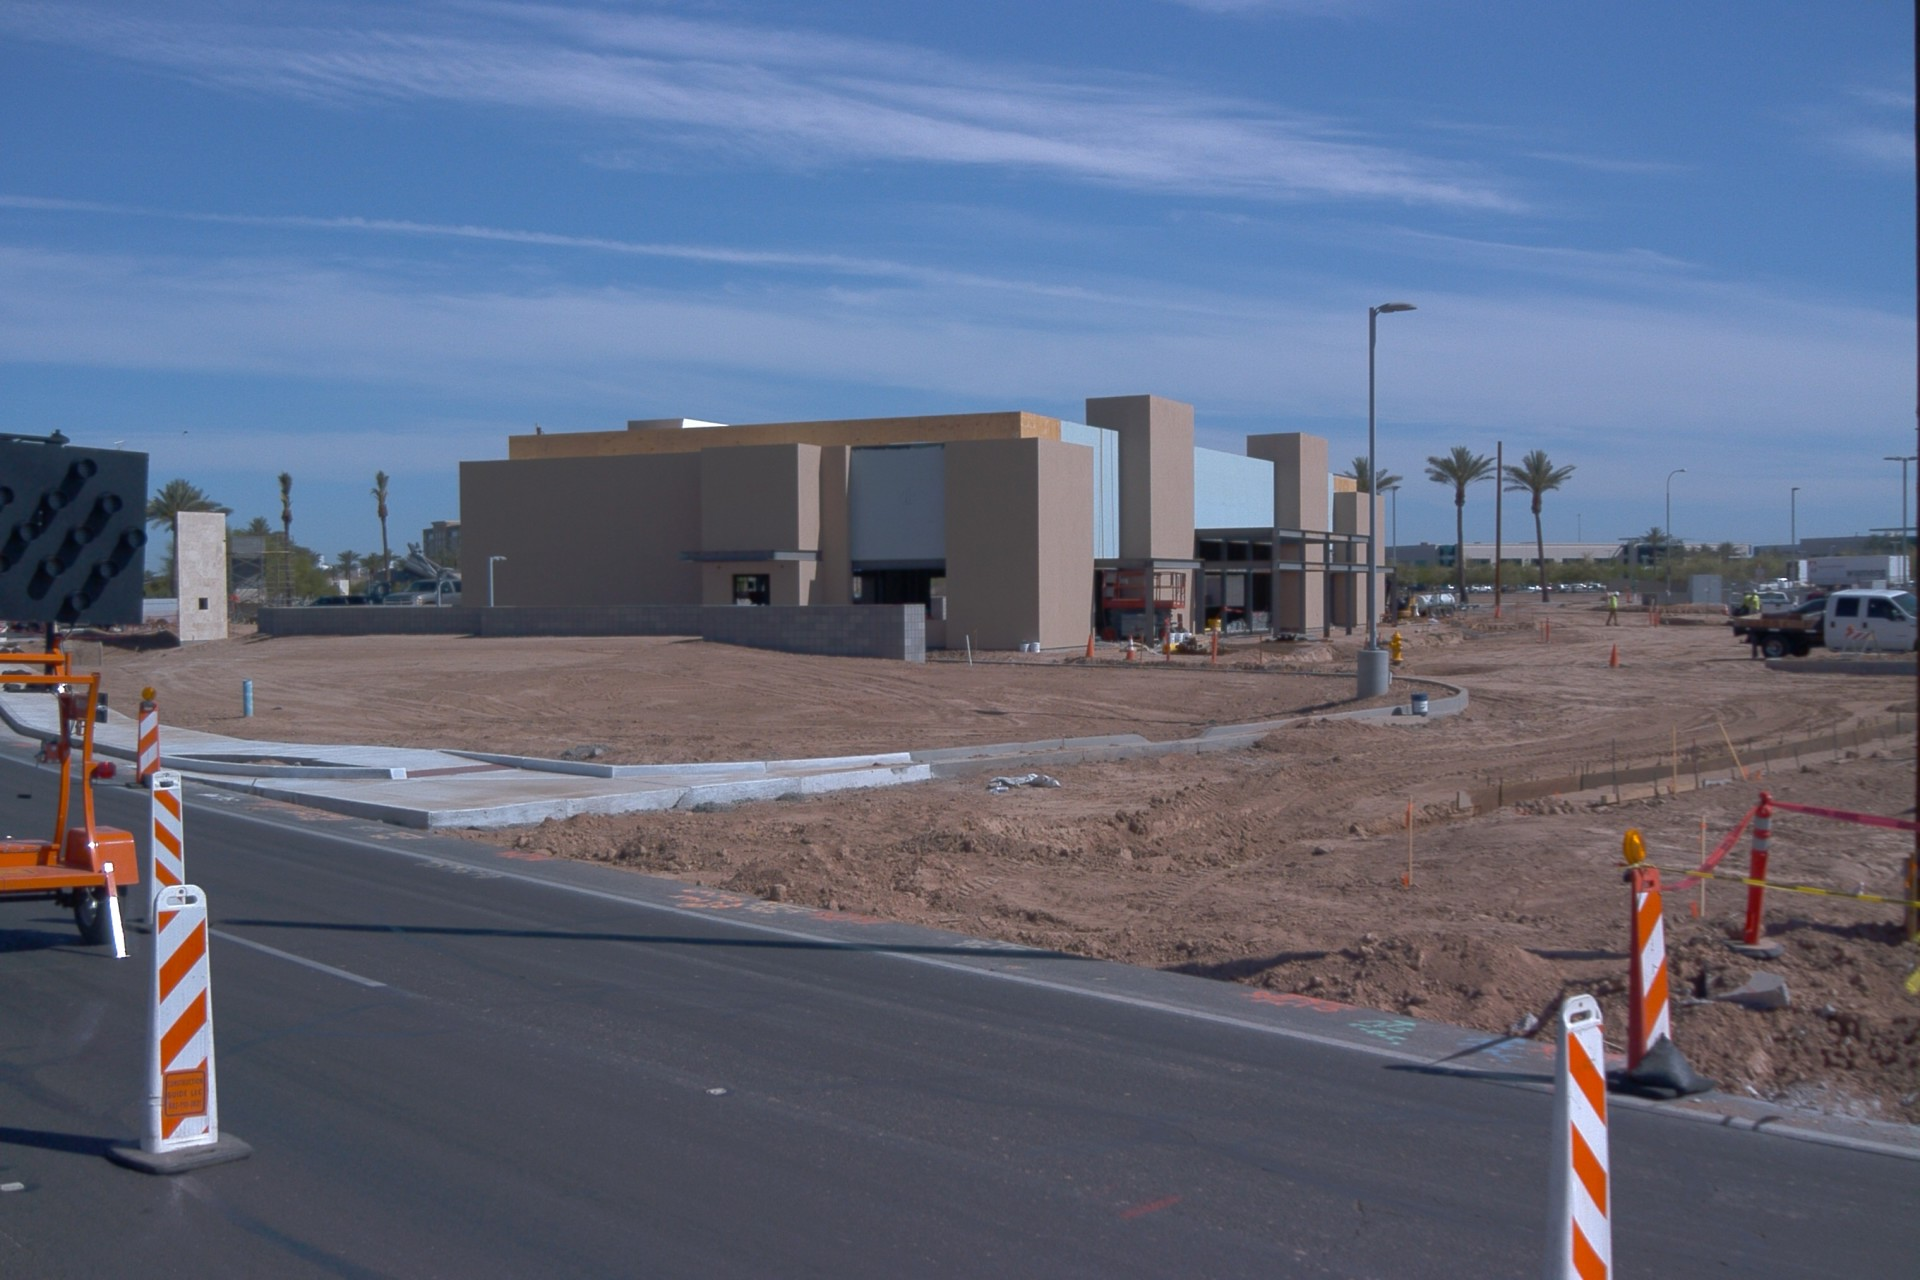TYPE_PEDESTRIAN: (1604, 590, 1625, 629), (1736, 590, 1754, 617), (1746, 588, 1761, 615)
TYPE_VEHICLE: (0, 421, 153, 958), (1724, 589, 1915, 661), (366, 544, 468, 609), (1411, 582, 1480, 619), (383, 577, 459, 609), (134, 598, 180, 632), (301, 590, 372, 609), (1751, 587, 1796, 615), (1469, 585, 1493, 597), (1807, 589, 1830, 597), (1464, 585, 1471, 595)
